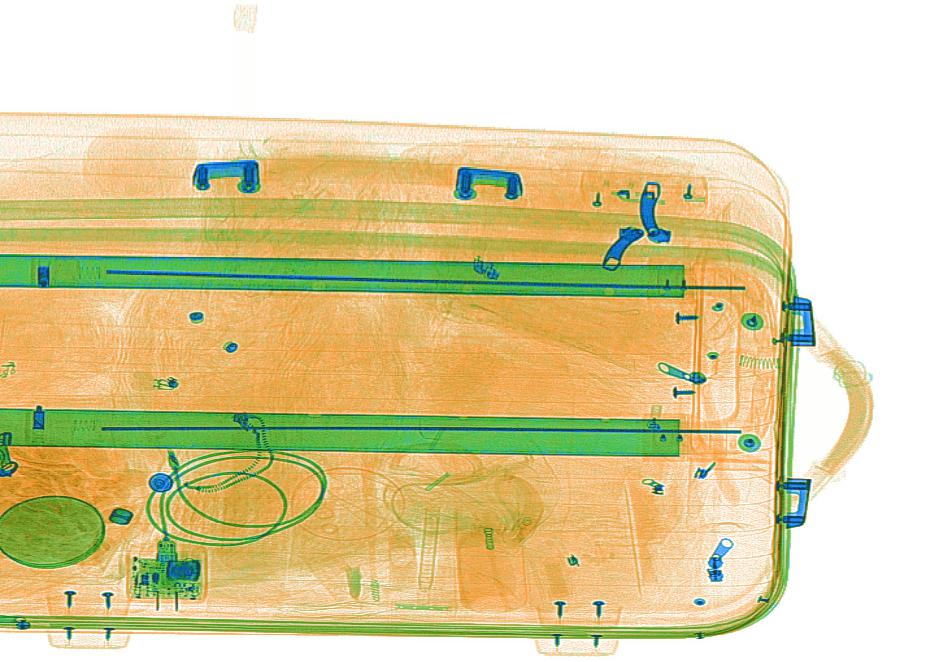plasticBottleWithaNozzle: (451, 493, 533, 616)
